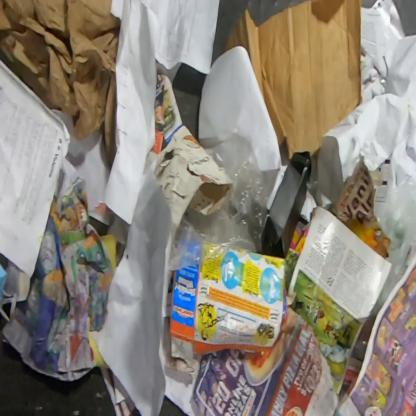cardboard: (223, 0, 362, 158), (170, 252, 287, 358), (262, 140, 311, 258), (152, 74, 183, 154)
soft_plastic: (170, 128, 272, 270), (370, 156, 415, 321)
